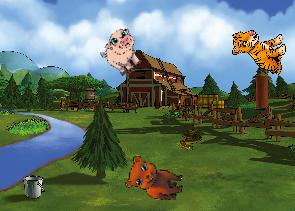bear: (124, 154, 186, 201)
pig: (95, 24, 150, 80)
tiger: (232, 29, 286, 74)
